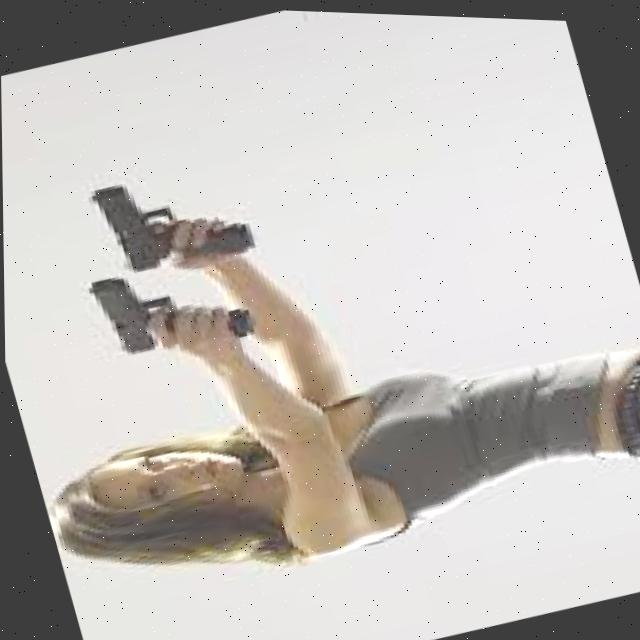pistol: (85, 168, 188, 279), (81, 259, 187, 362)
